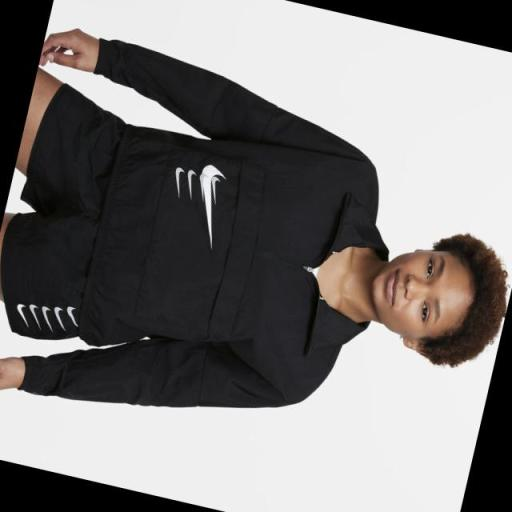Nike: (182, 158, 234, 256)
